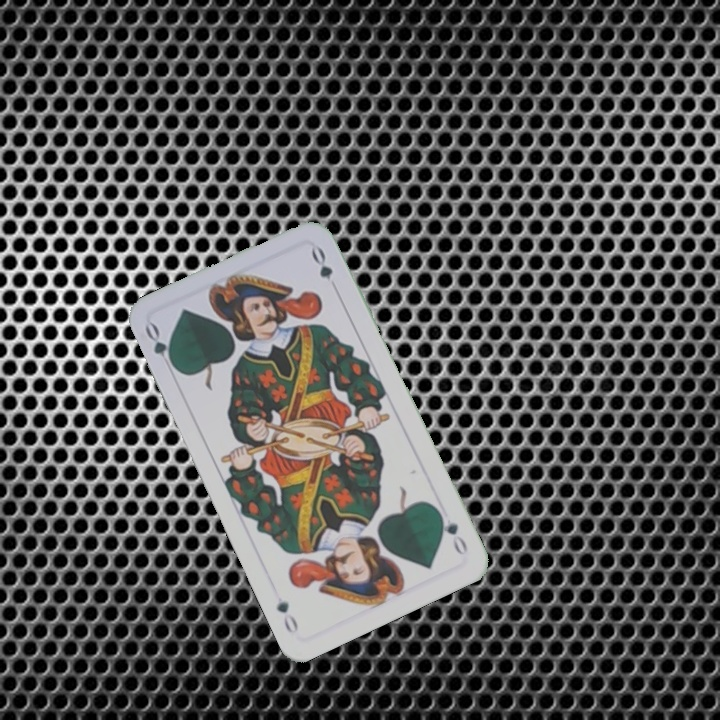GO: (140, 319, 180, 373), (433, 505, 471, 558)
